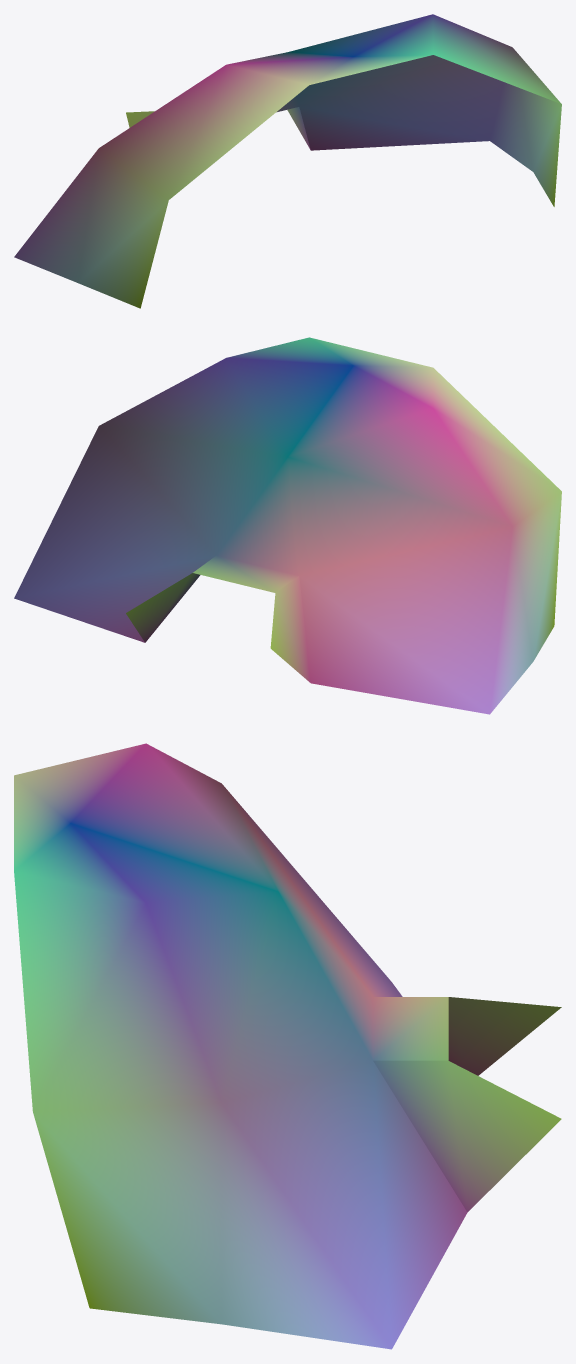
3 views of the same model, one above another, from view 1: azimuth 30°, elevation 25°; view 2: azimuth 150°, elevation 25°; view 3: azimuth 270°, elevation 25° (orthographic). The views are drawn at different scales.
Visible parts, largest first — view 1: part; view 2: part; view 3: part.
Boxes of the visible parts, left/top/right/bottom form: part: left=14, top=14, right=561, bottom=308; part: left=14, top=337, right=561, bottom=714; part: left=14, top=743, right=561, bottom=1349.
Bounding box in the file's own units: 46 × 20 × 29.
